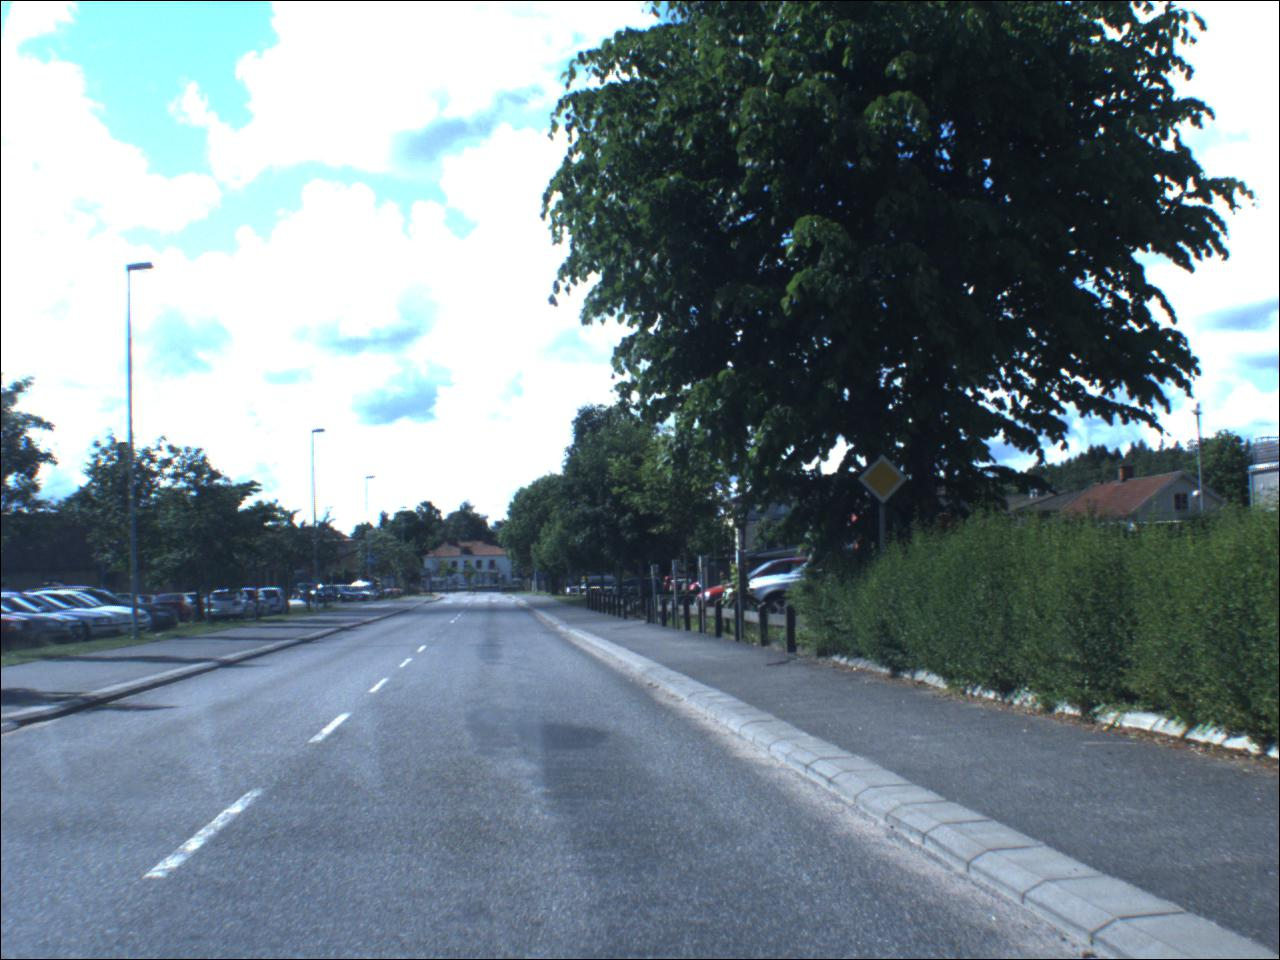PEDESTRIAN_CROSSING: (368, 556, 378, 566)
PRIORITY_ROAD: (858, 450, 914, 512)
